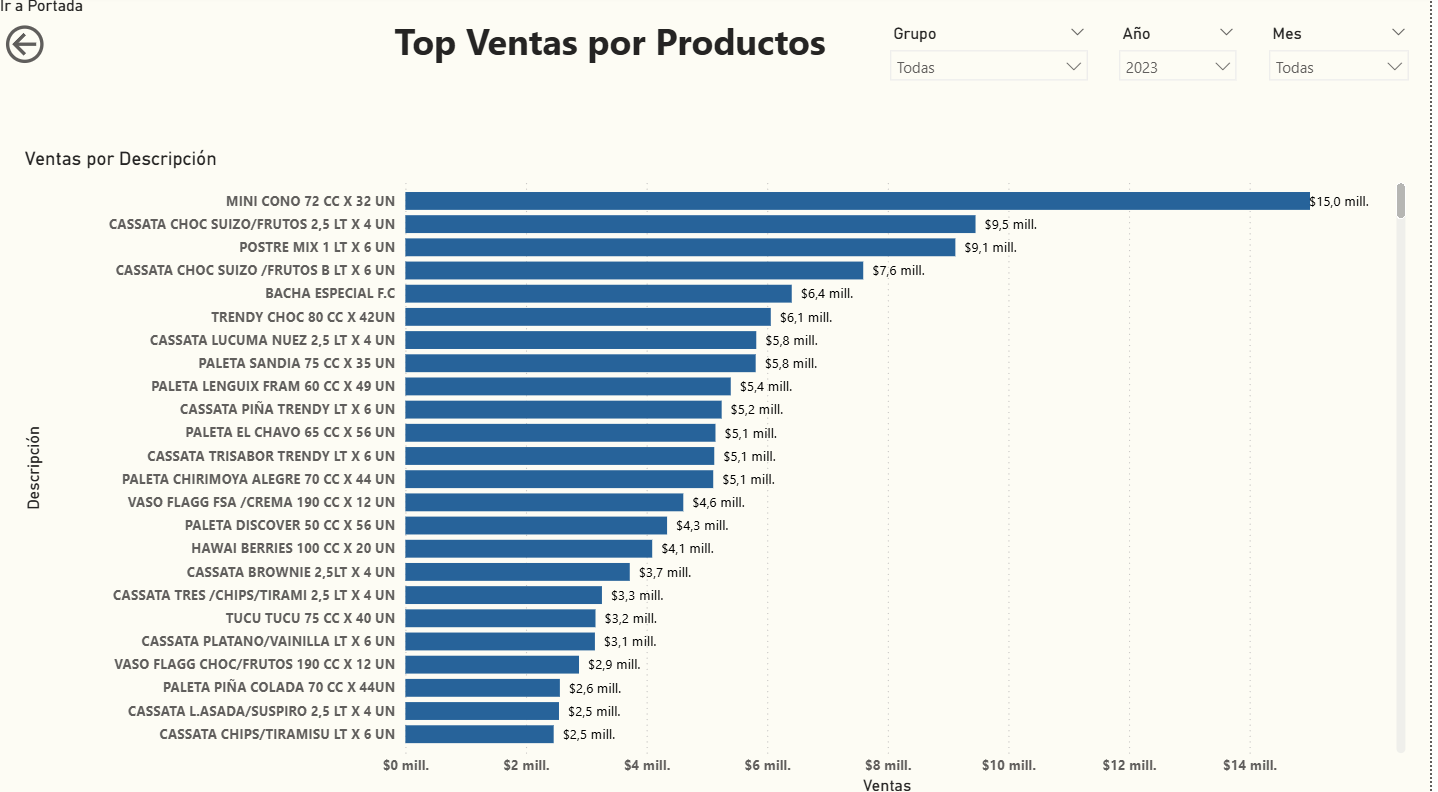

The dashboard page shown, as its layout file describes it:
{"tool":"powerbi","page":{"name":"Top Sku","canvas":[1280,720],"ordinal":3},"visuals":[{"type":"textbox","box":[317,12.5,458.5,78.8],"z":0},{"type":"barChart","fields":{"Category":["Productos.Descripción"],"Y":["Medidas.Venta_Neta"]},"box":[17,135.2,1246.6,584.8],"z":1000},{"type":"slicer","fields":{"Values":["Calendar.Fecha.Variación.Jerarquía de fechas.Año"]},"box":[992.2,20.6,125.4,62.7],"z":2000},{"type":"slicer","fields":{"Values":["Calendar.Fecha.Variación.Jerarquía de fechas.Mes"]},"box":[1126.6,20.6,145.1,62.7],"z":3000},{"type":"slicer","fields":{"Values":["Productos.Grupo"]},"box":[787.2,20.6,197,62.7],"z":4000},{"type":"actionButton","title":"Ir a Portada","box":[0,0,120.9,65.4],"z":5000}]}

Visuals, with their boxes in screenshot pixels (x1, y1, x2, y2), scaled from the page's 1280x720 canvas onto the 1438x792 screenshot:
textbox: [x1=356, y1=14, x2=871, y2=100]
barChart - Productos.Descripción x Medidas.Venta_Neta: [x1=19, y1=149, x2=1420, y2=791]
slicer - Calendar.Fecha.Variación.Jerarquía de fechas.Año: [x1=1115, y1=23, x2=1256, y2=92]
slicer - Calendar.Fecha.Variación.Jerarquía de fechas.Mes: [x1=1266, y1=23, x2=1429, y2=92]
slicer - Productos.Grupo: [x1=884, y1=23, x2=1106, y2=92]
"Ir a Portada" actionButton: [x1=0, y1=0, x2=136, y2=72]
